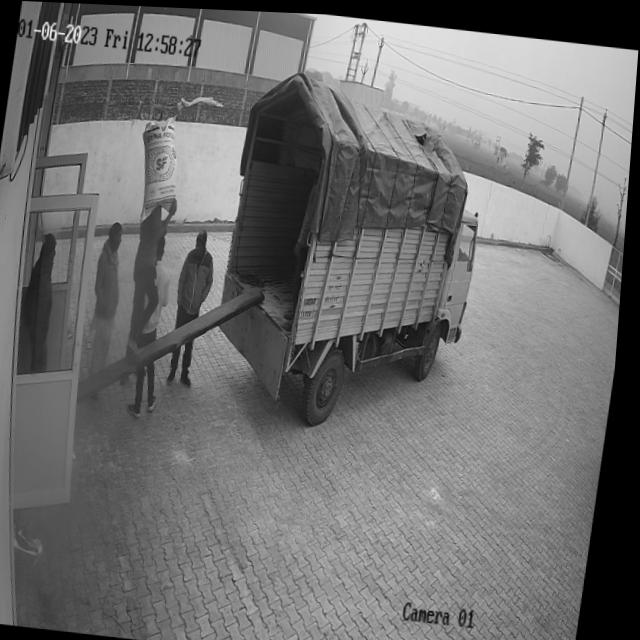sack: (134, 111, 189, 216)
